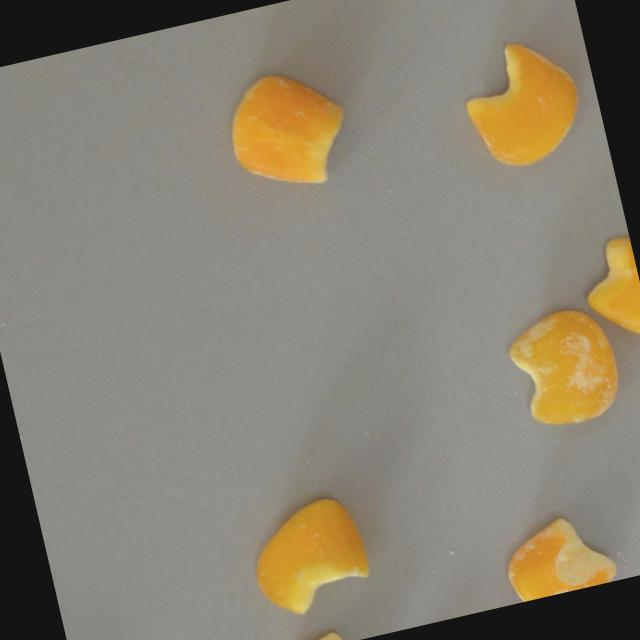no_canjicado: (217, 59, 358, 201), (453, 30, 591, 175), (241, 491, 377, 623), (582, 236, 640, 347), (290, 621, 377, 640)
pelicula: (500, 298, 629, 435), (497, 507, 621, 604)
